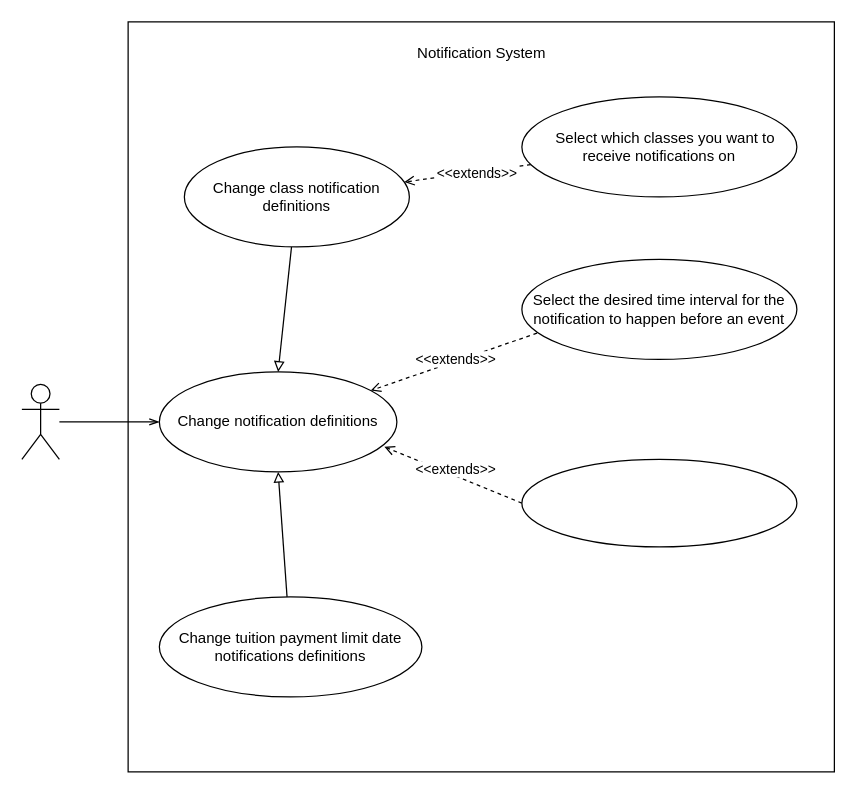
This 856x794 diagram has some shape labels left out. The centre of each missing label's shape, as x and y in pixels:
Change the notification status (active/inactive): the point at 659,502
User: the point at 40,421
